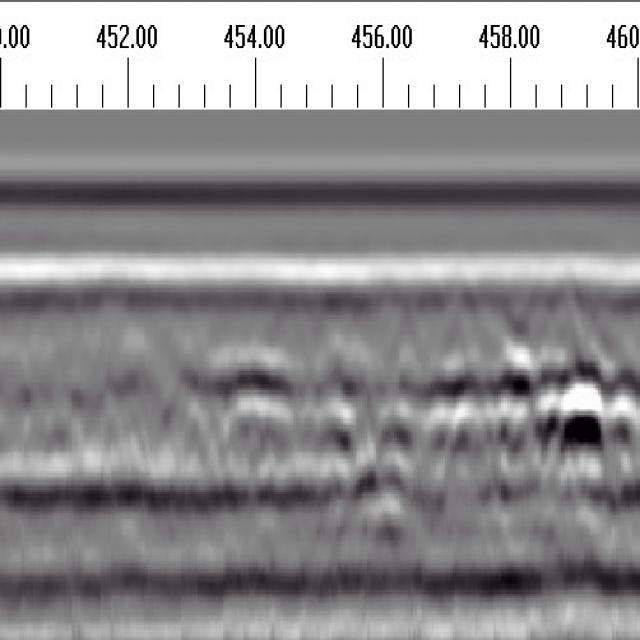loose: (216, 353, 640, 489)
